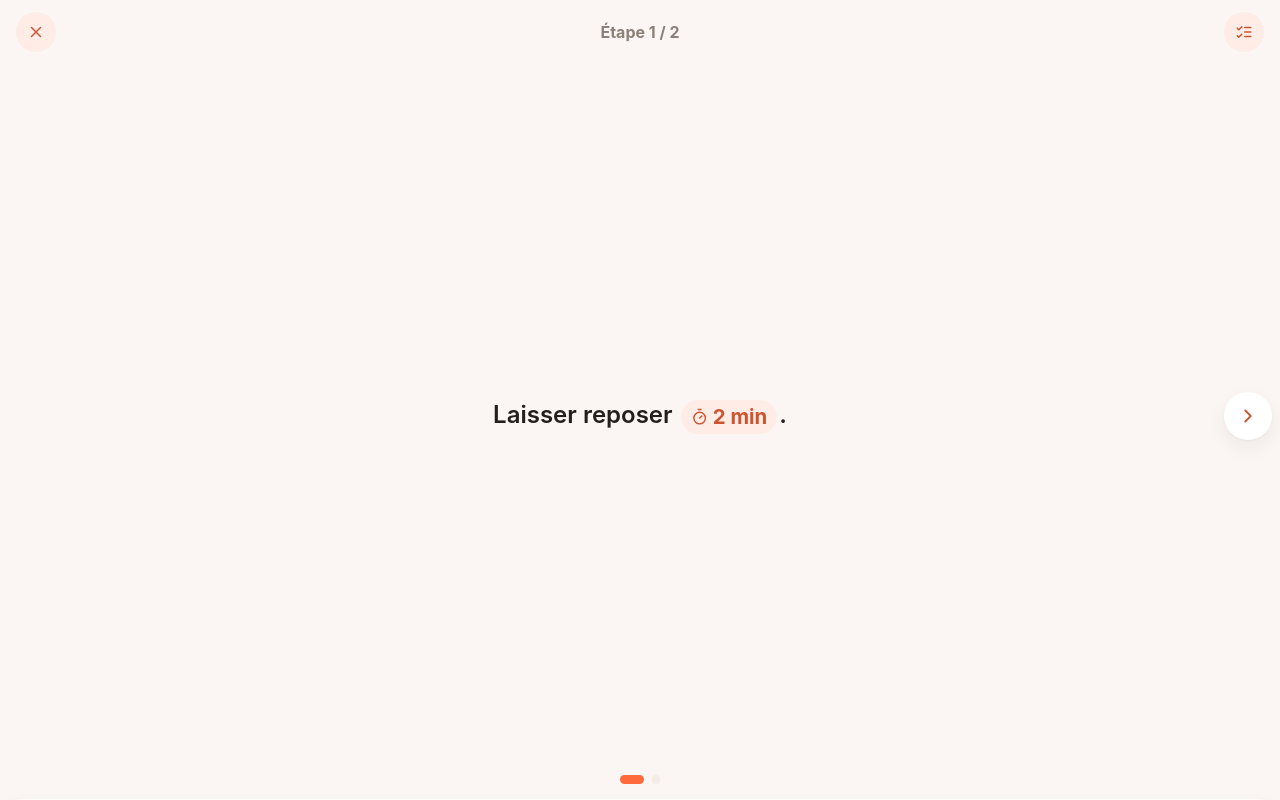
Test: RecipeCookMode timer dock › keeps a started timer running and visible in the dock after navigating away and back
Click the button with class "timer-chip" at (729, 417), box [681, 400, 777, 434]
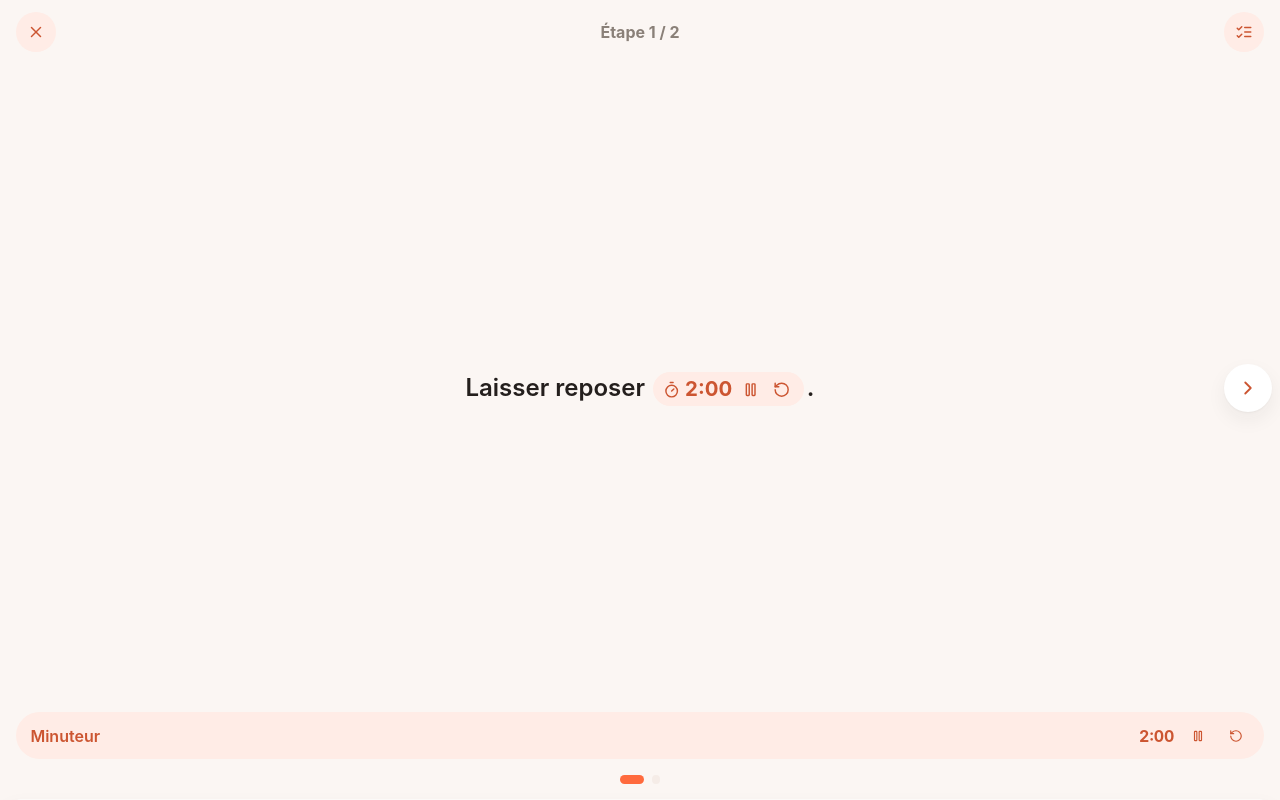
Result: the element with class "cook-mode-timer-dock-row" is shown at [16, 712, 1264, 759]
Result: the text with class "cook-mode-timer-dock-clock" reads "2:00" at [1139, 726, 1174, 746]
Click the button with class "next" at (1248, 388), box [1224, 364, 1272, 412]
Wait 3000 ms
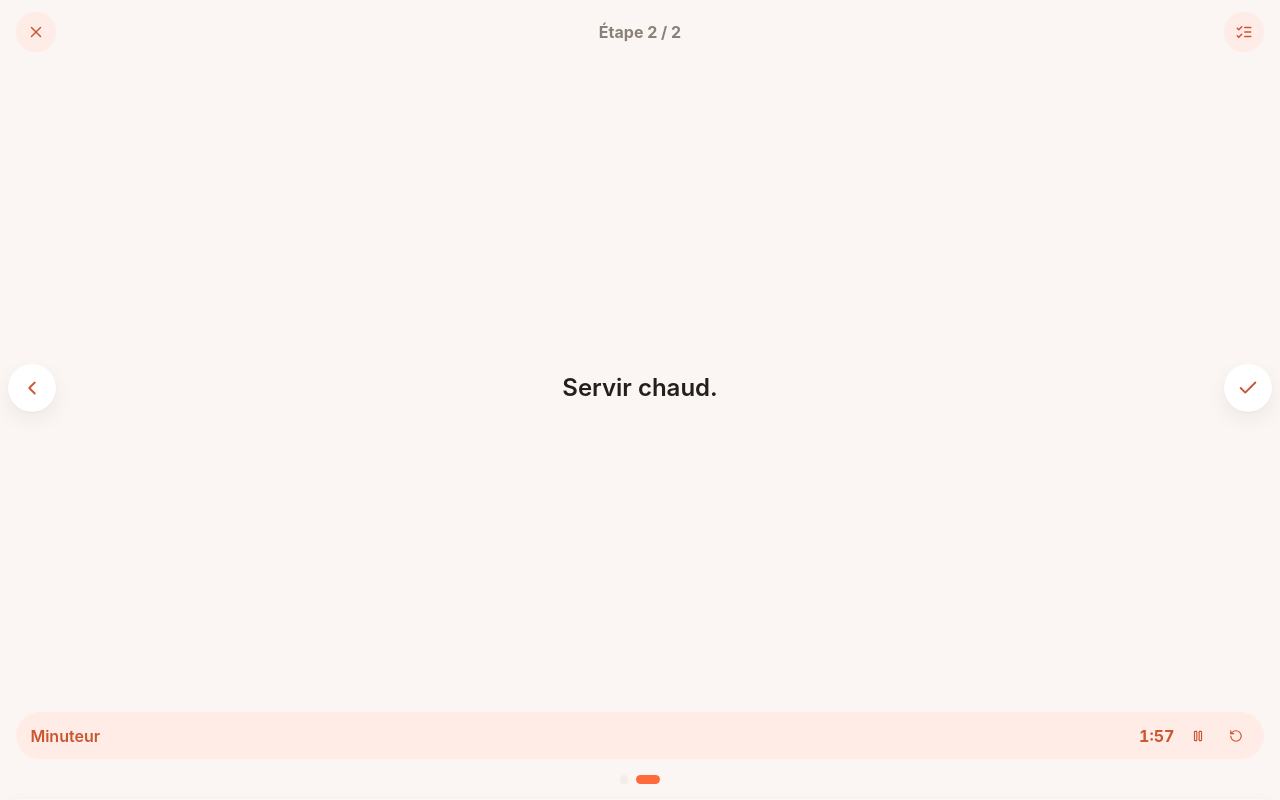
Result: the element with class "cook-mode-timer-dock-row" is shown at [16, 712, 1264, 759]
Result: the text "Servir chaud." is shown at [562, 370, 718, 406]
Result: the text with class "cook-mode-timer-dock-clock" reads "1:57" at [1139, 726, 1174, 746]
Click the 1st button with class "cook-mode-nav" at (32, 388), box [8, 364, 56, 412]
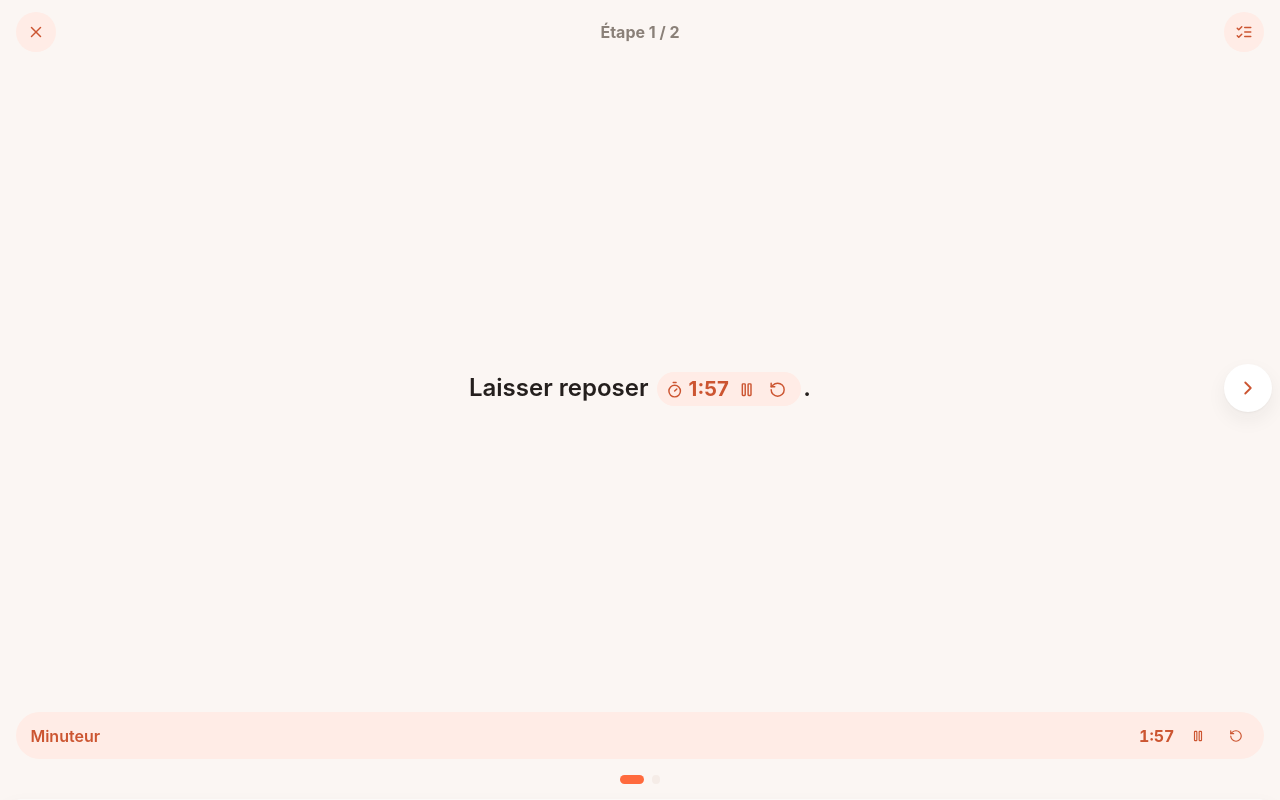
Result: the element showing "1:57" is shown at [657, 372, 801, 406]
